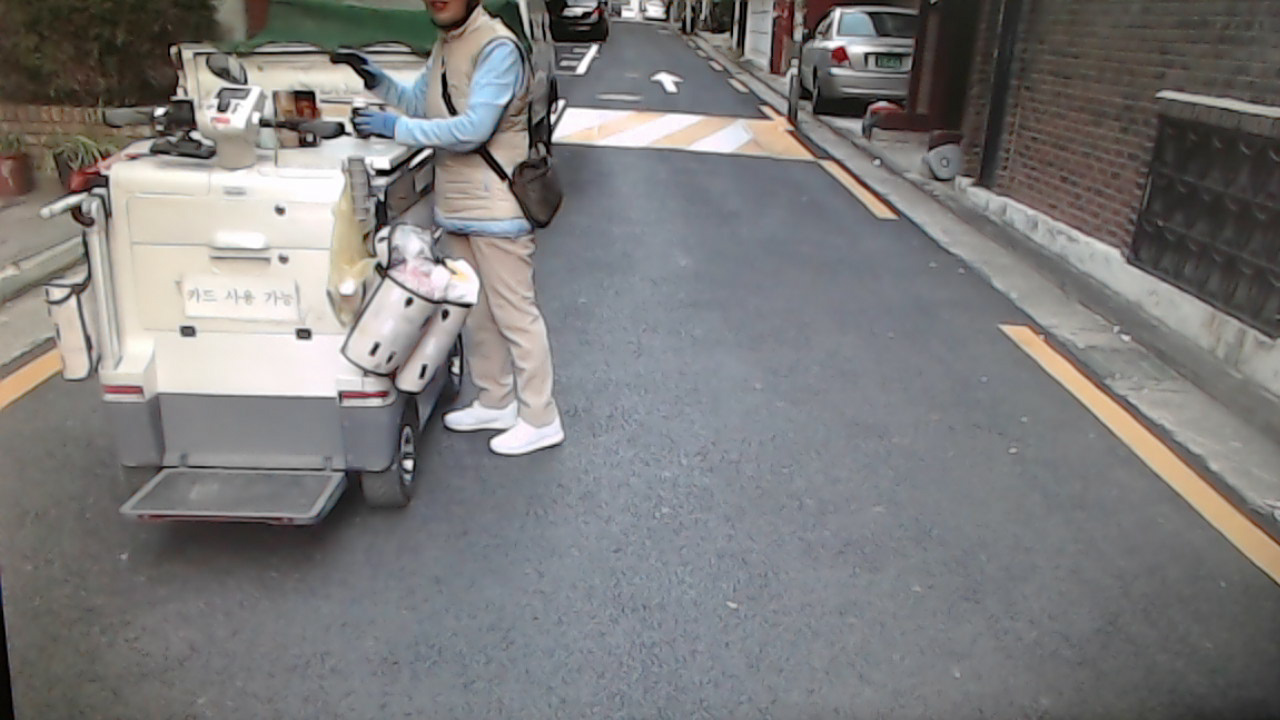Yakurut: (342, 5, 591, 468)
